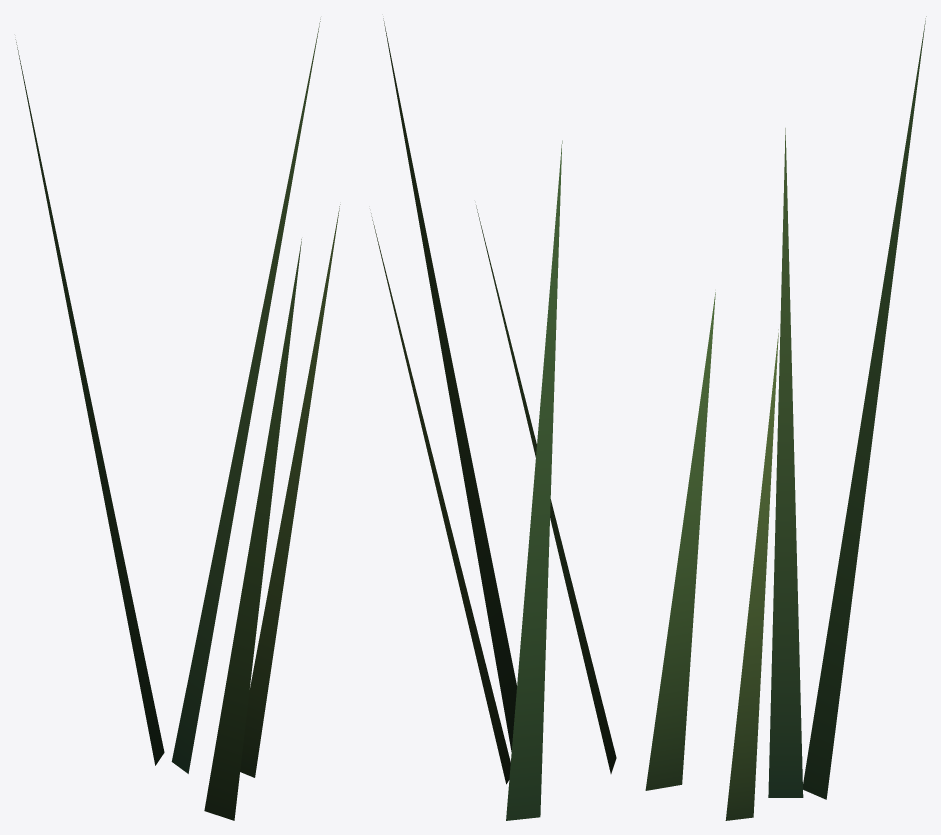
The model's file is sedge-b.lod2.glb.
The picture shows the model from 3 angles, left to right: view 1: azimuth 30°, elevation 25°; view 2: azimuth 150°, elevation 25°; view 3: azimuth 270°, elevation 25°; orthographic projection. The views are drawn at different scales.
Size of the model in its own units: 0.2754 by 0.7429 by 0.2542.
